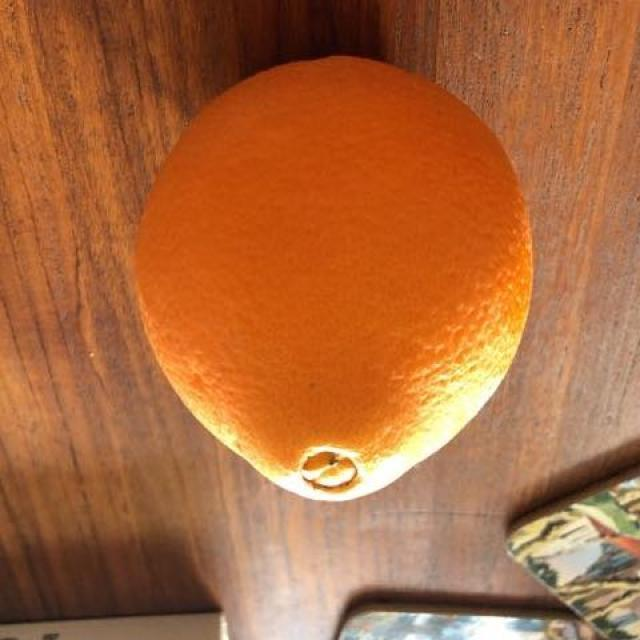Orange: (118, 41, 542, 514)
